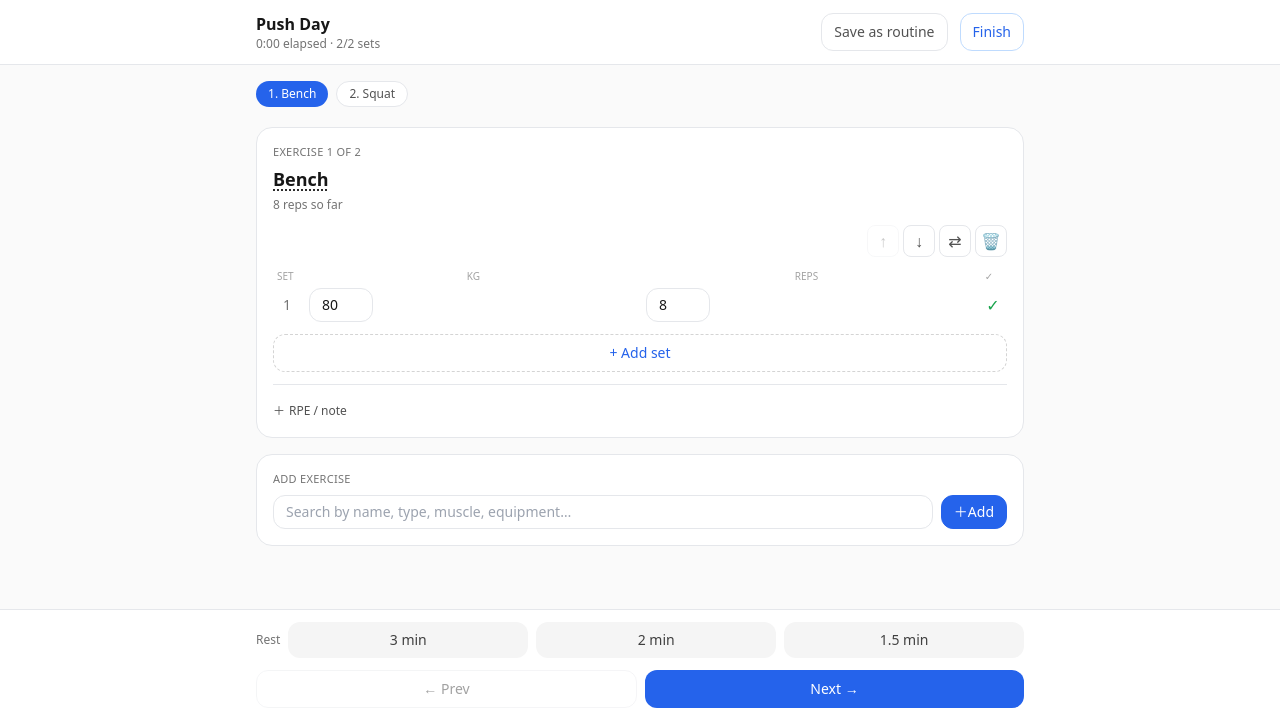
LiveSession › replaces the current exercise in place
Click the button named "Replace exercise".
click(955, 240)  # box [939,224,971,256]
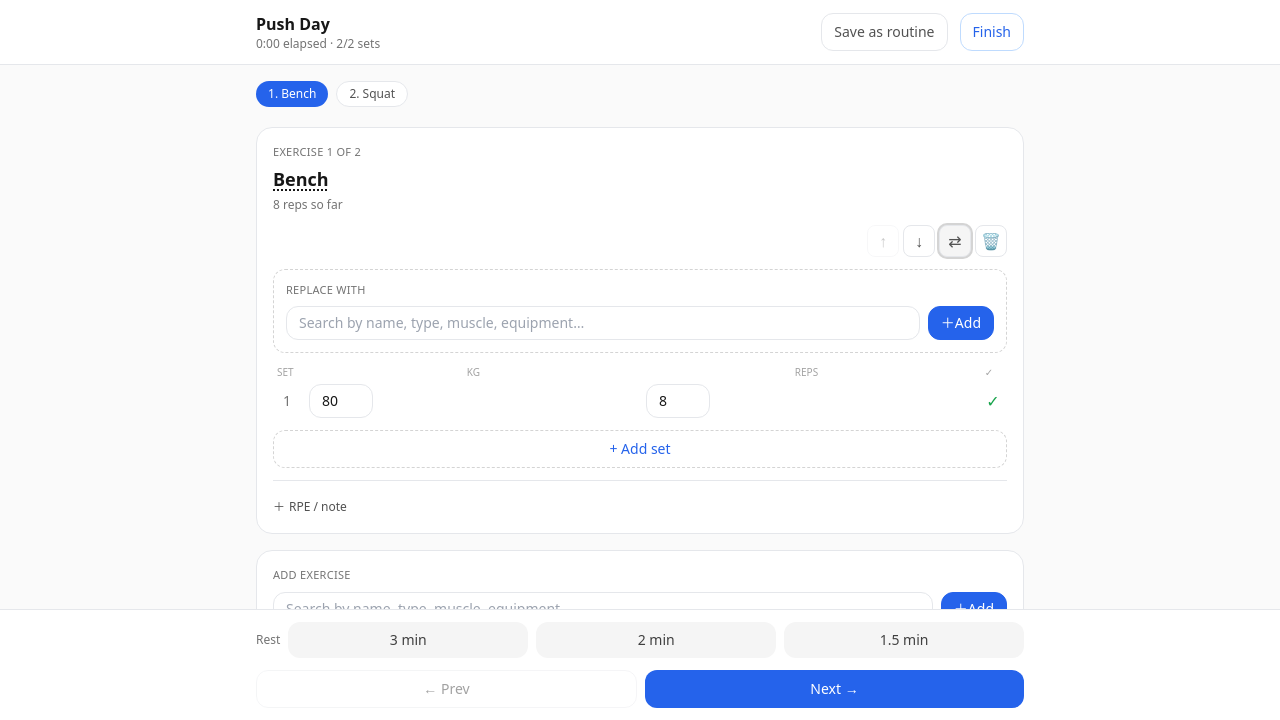
# The swap picker is the first exercise search box on screen.
Type "Dips" into the field with placeholder "Search by name, type, muscle, equipment…" below "Replace with".
click(603, 323); type("Dips")  # box [286,306,920,340]
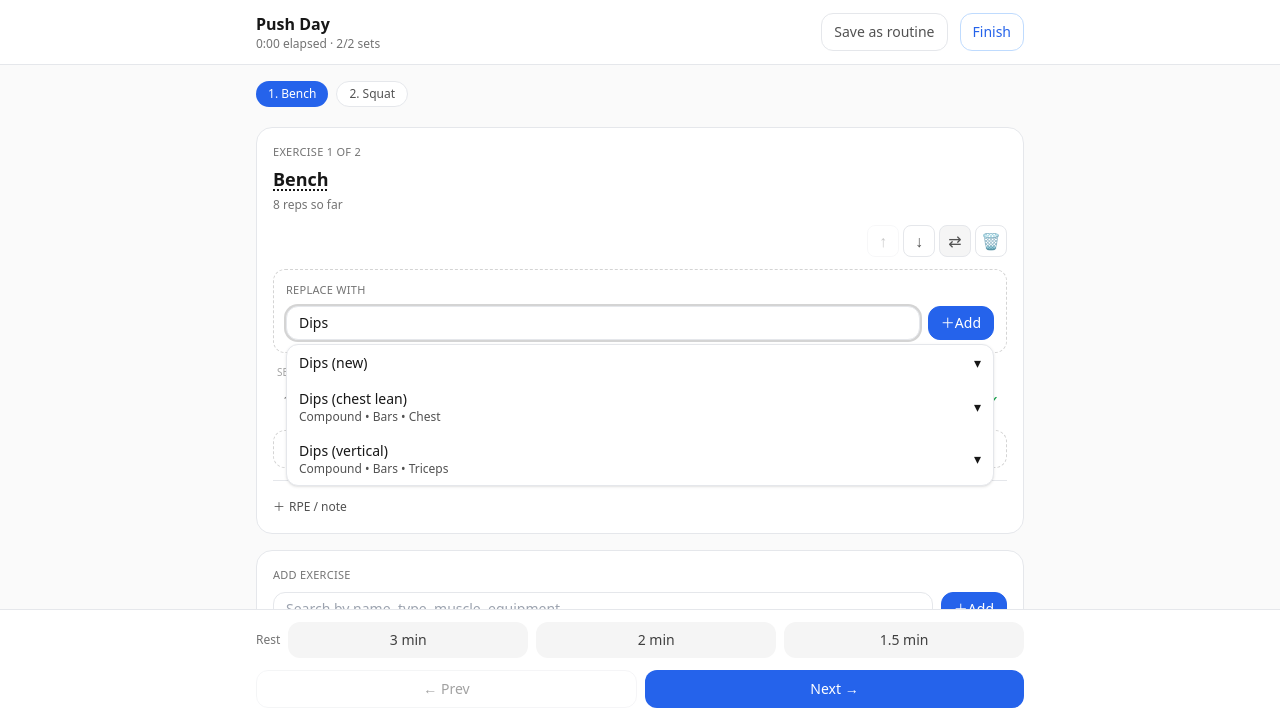
Click the 1st button "＋ Add".
click(961, 323)  # box [928,306,994,340]
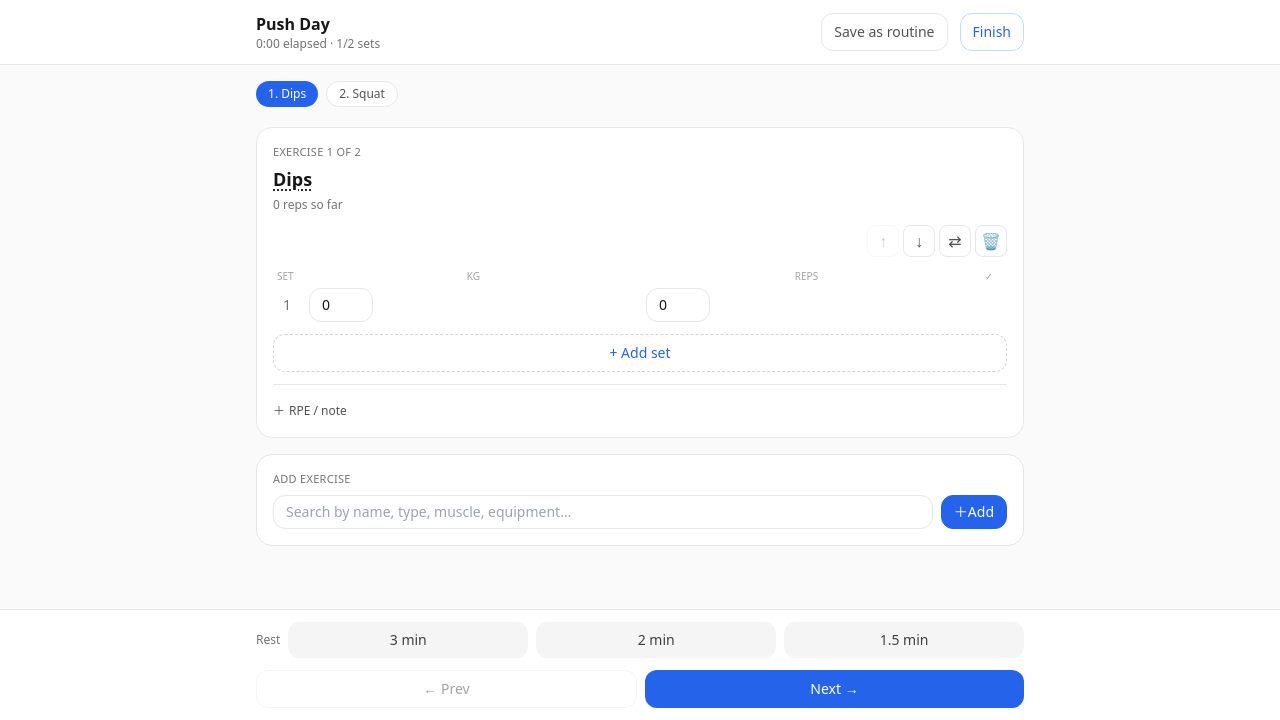
Expected: the button "2. Squat" is shown, [326,81,398,107]
Expected: the button "1. Dips" is shown, [256,81,318,107]
Expected: the button "1. Bench" is gone
